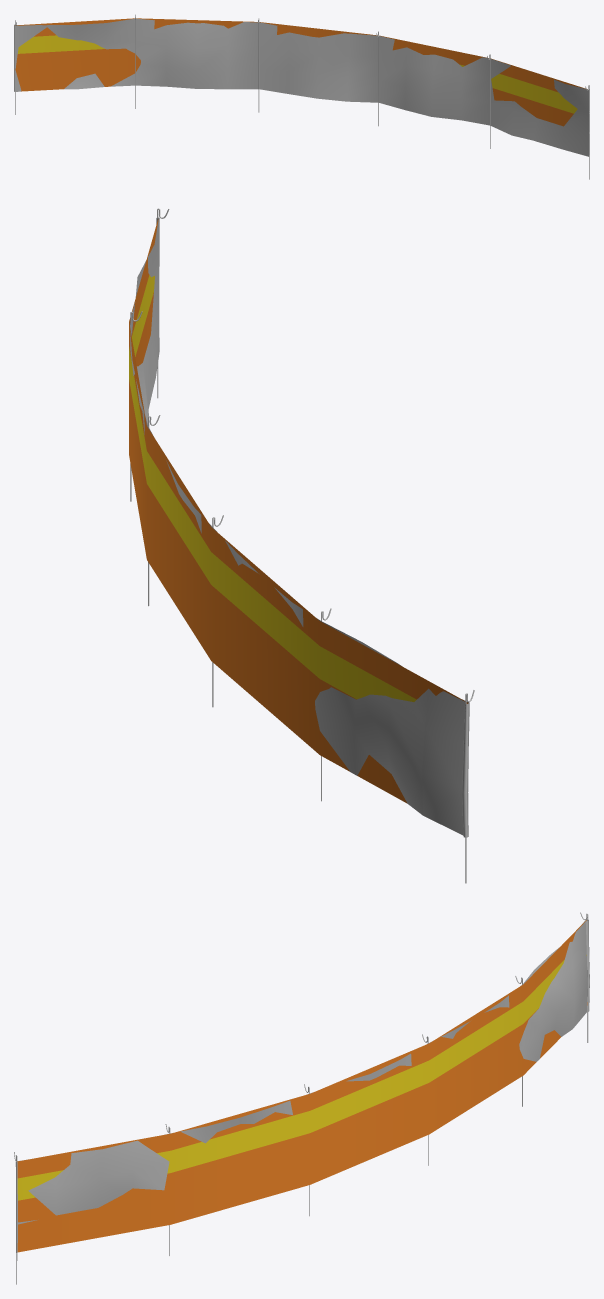
File: ut_race_mesh_barricade_curve_b.DAE
The picture shows the model from 3 angles, top to bottom: view 1: azimuth 30°, elevation 25°; view 2: azimuth 150°, elevation 25°; view 3: azimuth 270°, elevation 25°; orthographic projection. The views are drawn at different scales.
Visible parts, largest first — view 1: mesh_barricade_c1000, mesh_barricade_c100, mesh_barricade_c80; view 2: mesh_barricade_c80, mesh_barricade_c1000, mesh_barricade_c100; view 3: mesh_barricade_c80, mesh_barricade_c1000, mesh_barricade_c100.
Part boxes in pixels (x1=…): mesh_barricade_c1000: x1=14, y1=14, x2=589, y2=179; mesh_barricade_c100: x1=14, y1=18, x2=588, y2=156; mesh_barricade_c80: x1=15, y1=18, x2=587, y2=126; mesh_barricade_c80: x1=129, y1=219, x2=468, y2=803; mesh_barricade_c1000: x1=130, y1=208, x2=474, y2=883; mesh_barricade_c100: x1=130, y1=218, x2=468, y2=815; mesh_barricade_c80: x1=17, y1=920, x2=587, y2=1252; mesh_barricade_c1000: x1=14, y1=912, x2=589, y2=1284; mesh_barricade_c100: x1=18, y1=920, x2=585, y2=1215.
Size of the model in its own units: 6.86 by 6.87 by 1.7.
